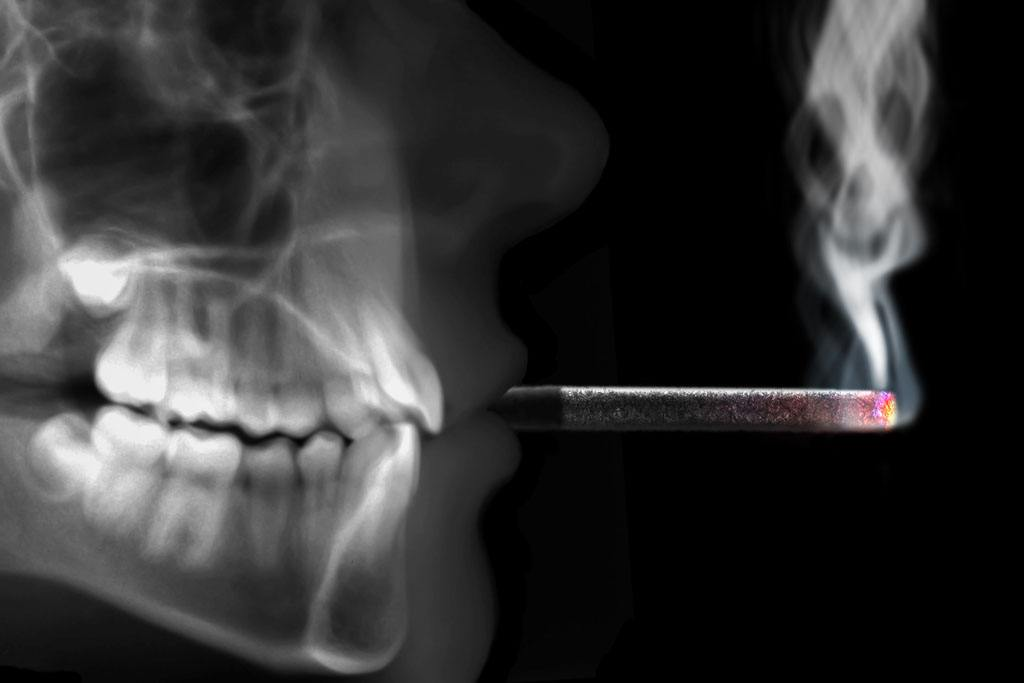yanwu: (815, 11, 920, 352)
